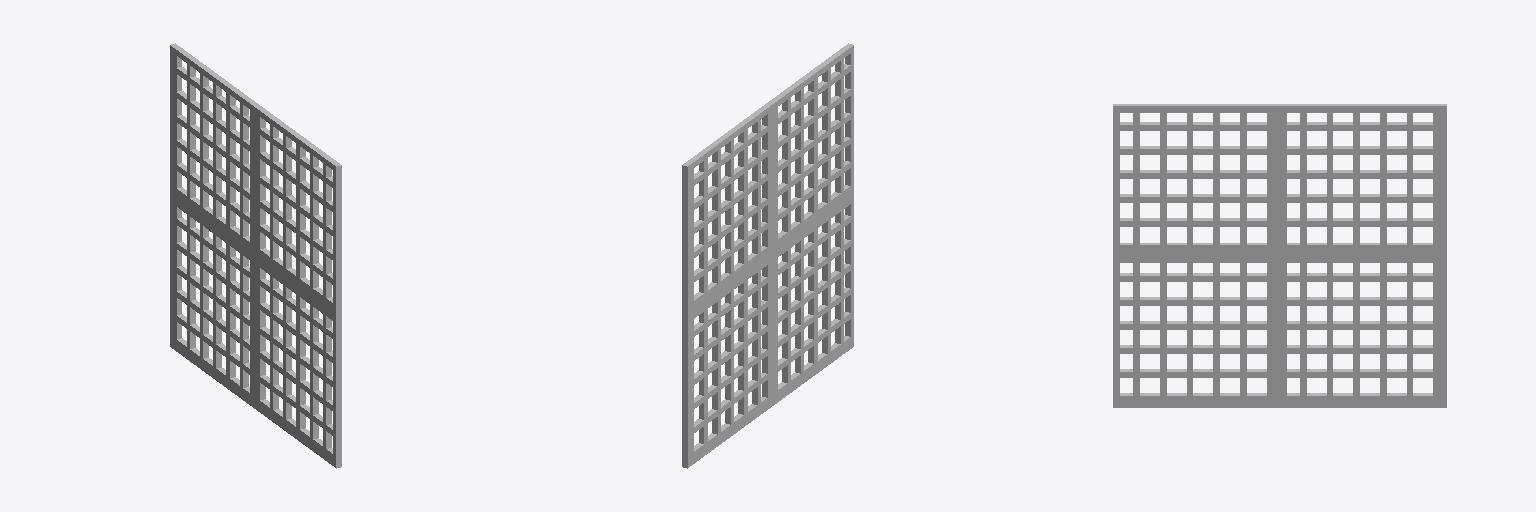
File: Wall.obj
3 renders of one model, left to right at view 1: azimuth 30°, elevation 25°; view 2: azimuth 150°, elevation 25°; view 3: azimuth 270°, elevation 25°, orthographic.
Size of the model in its own units: 1 by 50 by 50.